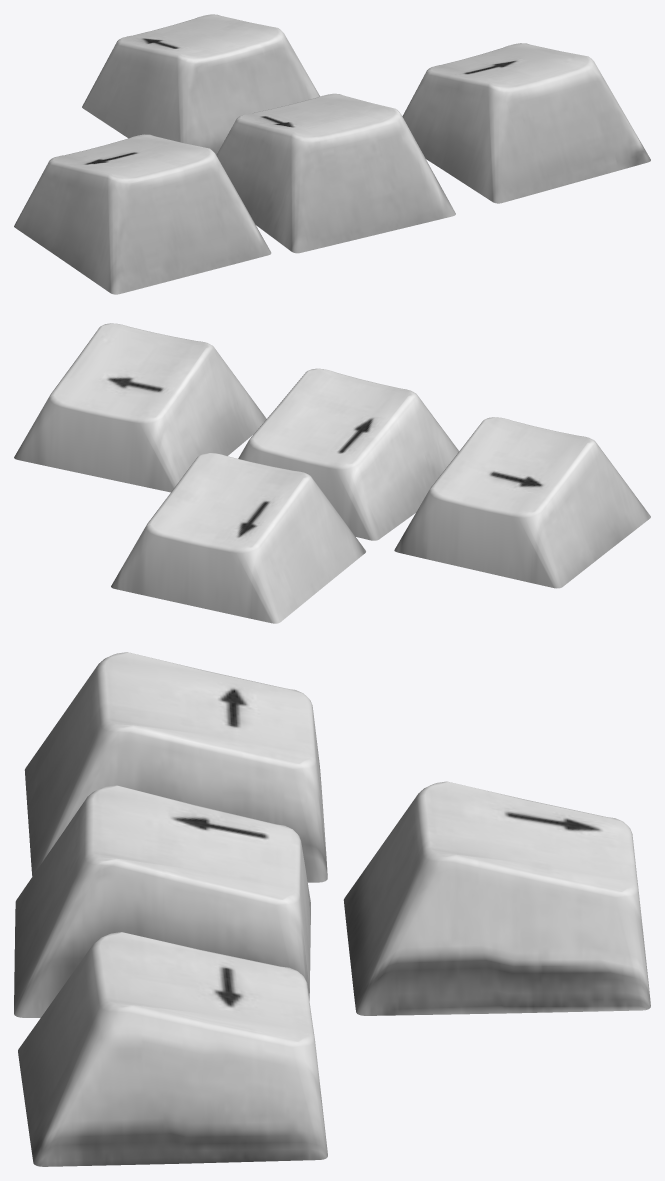
The model's file is keys_arrows.glb.
3 views of the same model, one above another, from view 1: azimuth 30°, elevation 25°; view 2: azimuth 150°, elevation 25°; view 3: azimuth 270°, elevation 25° (orthographic). The views are drawn at different scales.
Visible parts, largest first — view 1: Plane.003; view 2: Plane.003; view 3: Plane.003.
Boxes of the visible parts, left/top/right/bottom form: Plane.003: left=14, top=14, right=650, bottom=294; Plane.003: left=14, top=323, right=650, bottom=623; Plane.003: left=14, top=652, right=650, bottom=1166.
Bounding box in the file's own units: 11.25 × 1.76 × 7.49.
1 material, 1 textured.
